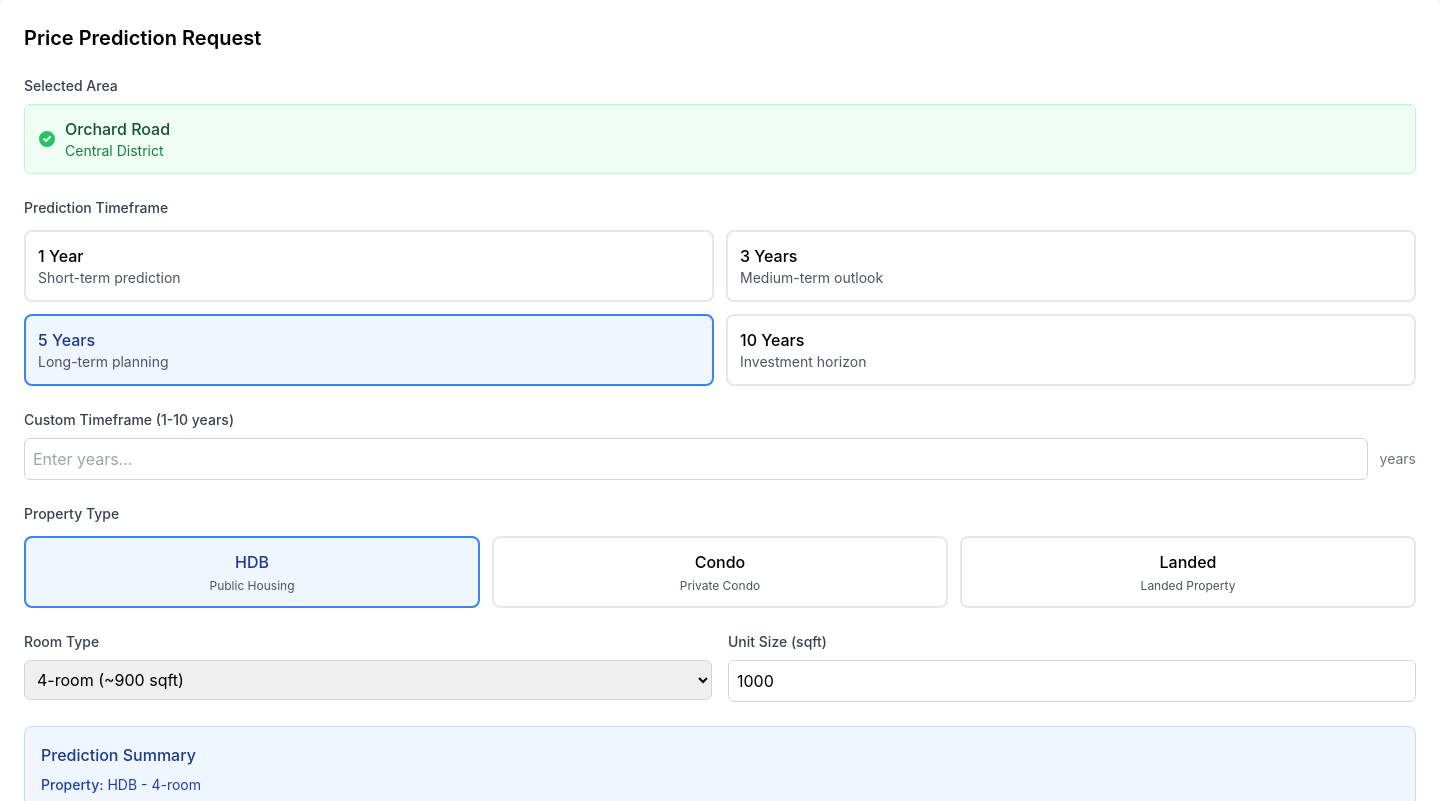
Test: PredictionForm Component › updates room type options based on property type selection
Expected: the dropdown showing "room" is shown, x1=24 y1=660 x2=712 y2=700
// Switch to Landed
Click the text "Landed": (1188, 562) x1=1160 y1=552 x2=1216 y2=572
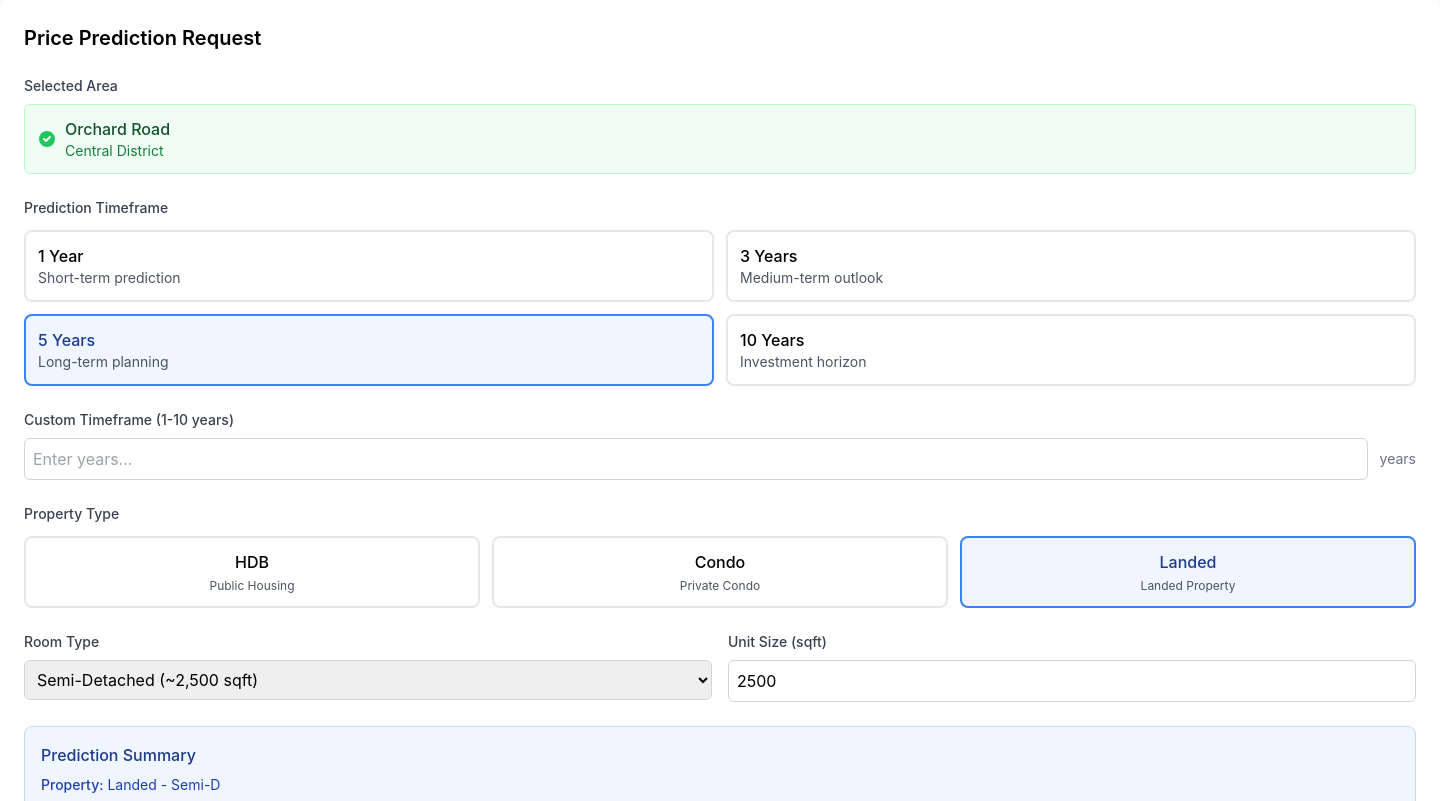
Expected: the dropdown is shown, x1=24 y1=660 x2=712 y2=700
